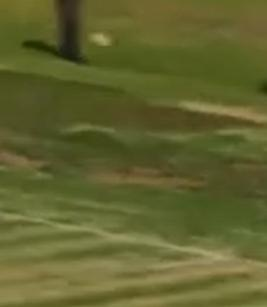ball: (87, 26, 122, 53)
